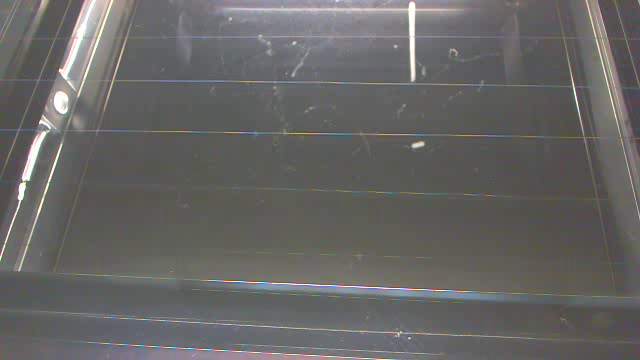alpha: (396, 2, 432, 83), (408, 133, 431, 155), (354, 252, 371, 264)
